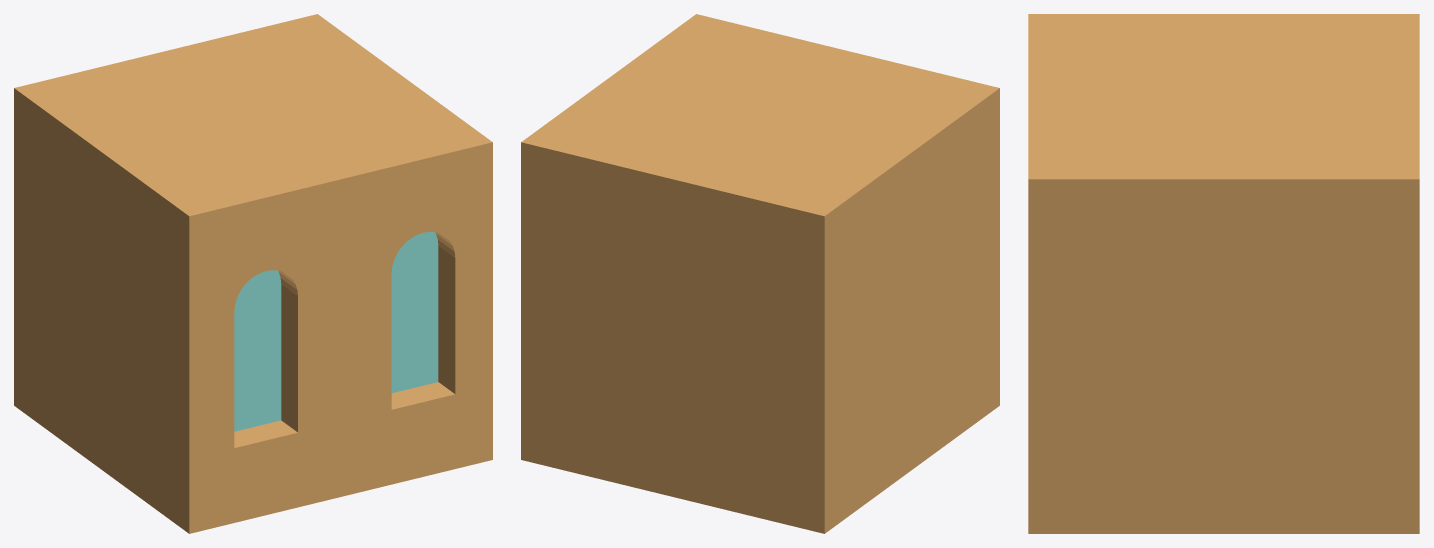
File: middle4.fbx
The picture shows the model from 3 angles, left to right: view 1: azimuth 30°, elevation 25°; view 2: azimuth 150°, elevation 25°; view 3: azimuth 270°, elevation 25°; orthographic projection. The views are drawn at different scales.
Visible parts, largest first — view 1: middle4; view 2: middle4; view 3: middle4.
Boxes of the visible parts, x1=… form: middle4: x1=14, y1=14, x2=492, y2=533; middle4: x1=521, y1=14, x2=999, y2=533; middle4: x1=1028, y1=14, x2=1419, y2=533.
Bounding box in the file's own units: 200 × 200 × 200.
